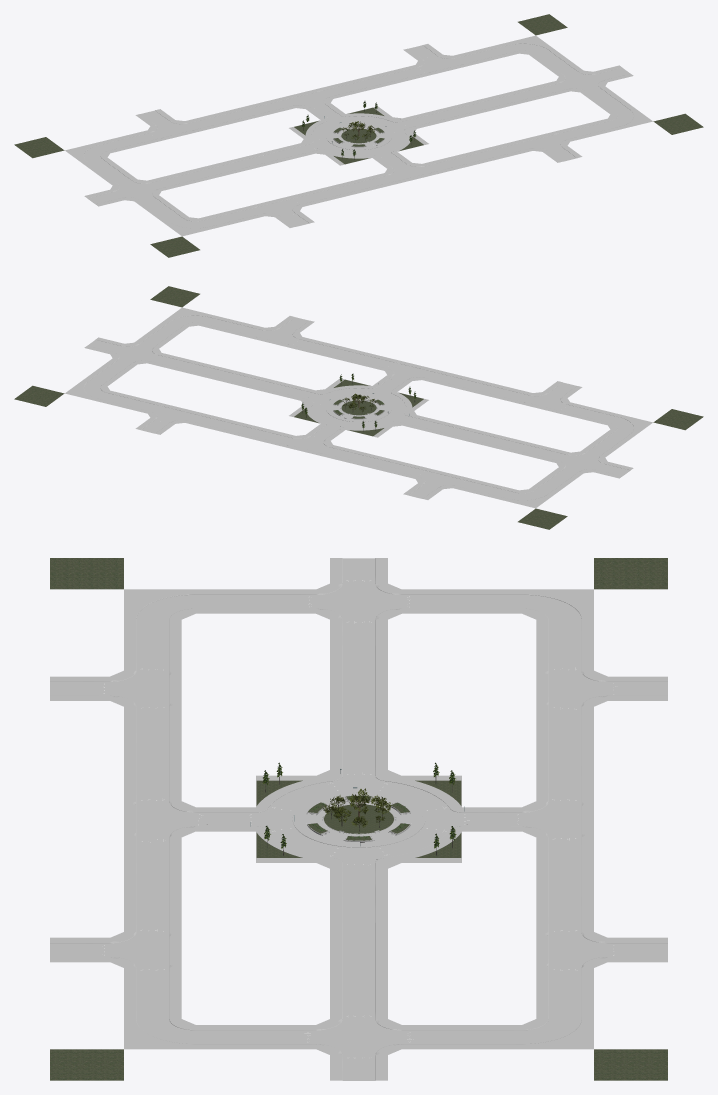
File: Double-Block-04.fbx
The picture shows the model from 3 angles, top to bottom: view 1: azimuth 30°, elevation 25°; view 2: azimuth 150°, elevation 25°; view 3: azimuth 270°, elevation 25°; orthographic projection. The views are drawn at different scales.
Parts seen in each view (by area): view 1: Double-Block-04-B, Double-Block-04, Double-Block-04-C, Double-Block-04-Sidewalk-B, Double-Block-04-Sidewalk, Double-Block-04-Sidewalk-C, Trees; view 2: Double-Block-04-B, Double-Block-04, Double-Block-04-C, Double-Block-04-Sidewalk-B, Double-Block-04-Sidewalk, Double-Block-04-Sidewalk-C, Trees; view 3: Double-Block-04-B, Double-Block-04-C, Double-Block-04, Double-Block-04-Sidewalk-B, Double-Block-04-Sidewalk-C, Double-Block-04-Sidewalk, Trees.
Boxes of the visible parts, x1,y1,x2,y2 form: Double-Block-04-B: (196,69,521,202); Double-Block-04: (409,14,703,161); Double-Block-04-C: (14,110,309,257); Double-Block-04-Sidewalk-B: (193,67,524,204); Double-Block-04-Sidewalk: (403,35,652,162); Double-Block-04-Sidewalk-C: (65,109,314,236); Trees: (302,101,415,159); Double-Block-04-B: (196,341,521,474); Double-Block-04: (14,286,308,433); Double-Block-04-C: (408,382,703,529); Double-Block-04-Sidewalk-B: (193,339,524,476); Double-Block-04-Sidewalk: (65,307,314,434); Double-Block-04-Sidewalk-C: (403,381,652,508); Trees: (301,373,416,431); Double-Block-04-B: (135,715,582,923); Double-Block-04-C: (50,558,667,716); Double-Block-04: (50,922,667,1080); Double-Block-04-Sidewalk-B: (124,715,593,923); Double-Block-04-Sidewalk-C: (50,558,667,716); Double-Block-04-Sidewalk: (50,922,667,1080); Trees: (262,762,456,855).
Size of what is drawn, in the model's own units: 600 by 16.1 by 300.
